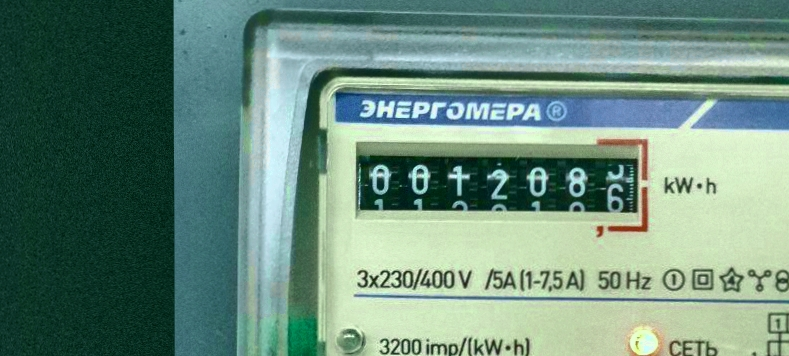0: (525, 162, 550, 197), (408, 158, 431, 196), (370, 159, 390, 196)
1: (449, 160, 466, 197)
2: (486, 165, 512, 200)
6: (603, 178, 626, 213)
8: (564, 163, 587, 199)
screen: (345, 128, 658, 247)
